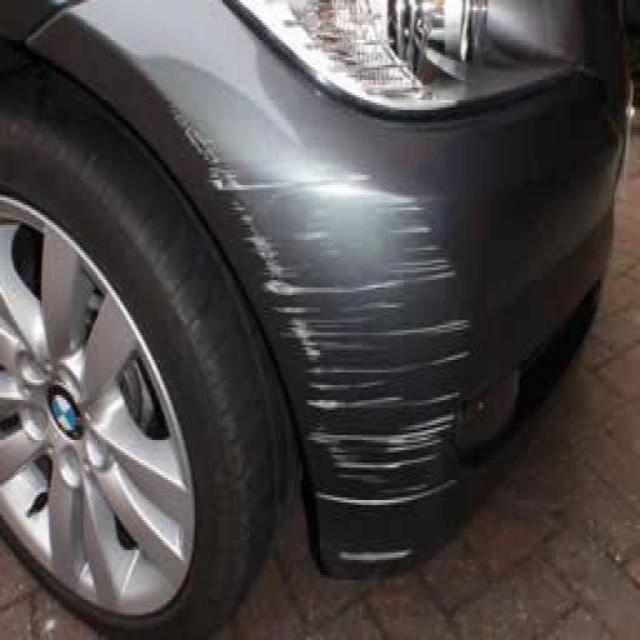rub: (176, 118, 475, 515)
